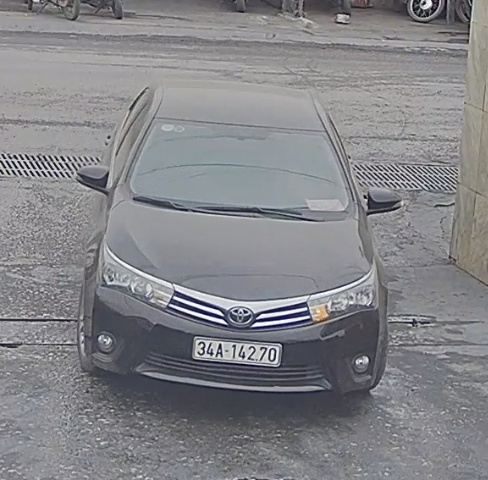vehicle plate: (191, 333, 286, 369)
